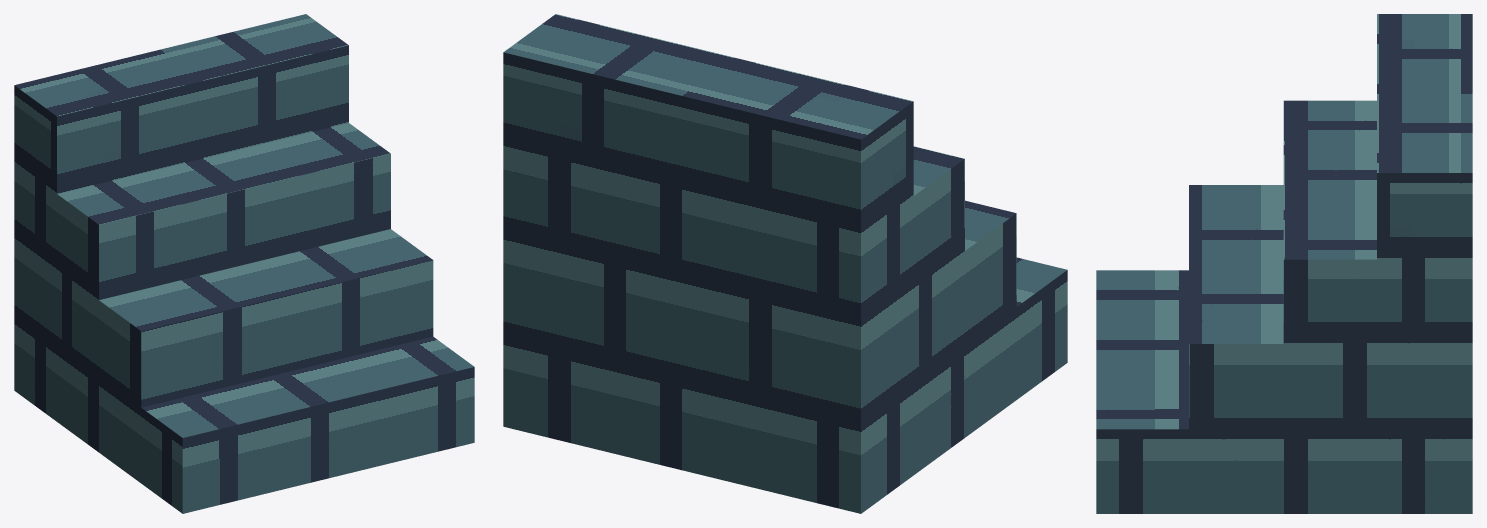
Rendered from wallSteps.fbx.
3 renders of one model, left to right at view 1: azimuth 30°, elevation 25°; view 2: azimuth 150°, elevation 25°; view 3: azimuth 270°, elevation 25°, orthographic. The views are drawn at different scales.
Visible parts, largest first — view 1: wallSteps; view 2: wallSteps; view 3: wallSteps.
Part boxes in pixels (box(x1,y1,x2,y2)): wallSteps: box(14, 14, 474, 513); wallSteps: box(503, 14, 1067, 513); wallSteps: box(1096, 14, 1472, 513).
Bounding box in the file's own units: 100 × 100 × 100.
1 material, 1 textured.
